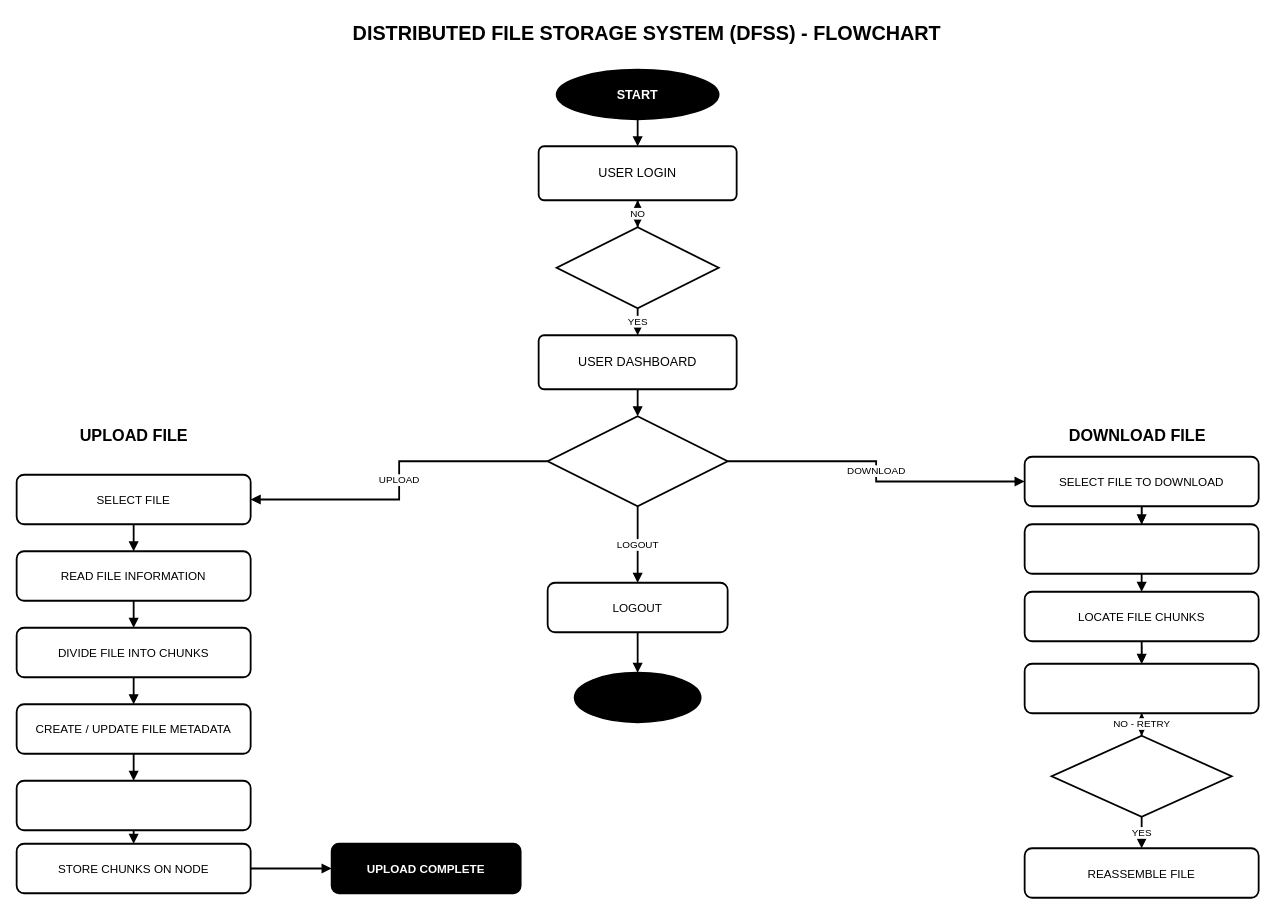
The diagram is 1274 pixels wide and 914 high, and some of its shapes have lost their labels. Here are the shapes that lost their labels. From the top down, the centre of each, then its label:
At (x=637, y=267): "VALID LOGIN?".
At (x=637, y=461): "CHOOSE OPERATION".
At (x=1141, y=548): "RETRIEVE FILE METADATA".
At (x=637, y=697): "END".
At (x=1141, y=688): "RETRIEVE CHUNKS FROM STORAGE NODES".
At (x=1141, y=775): "ALL CHUNKS RETRIEVED?".
At (x=133, y=805): "SELECT AVAILABLE STORAGE NODE".
